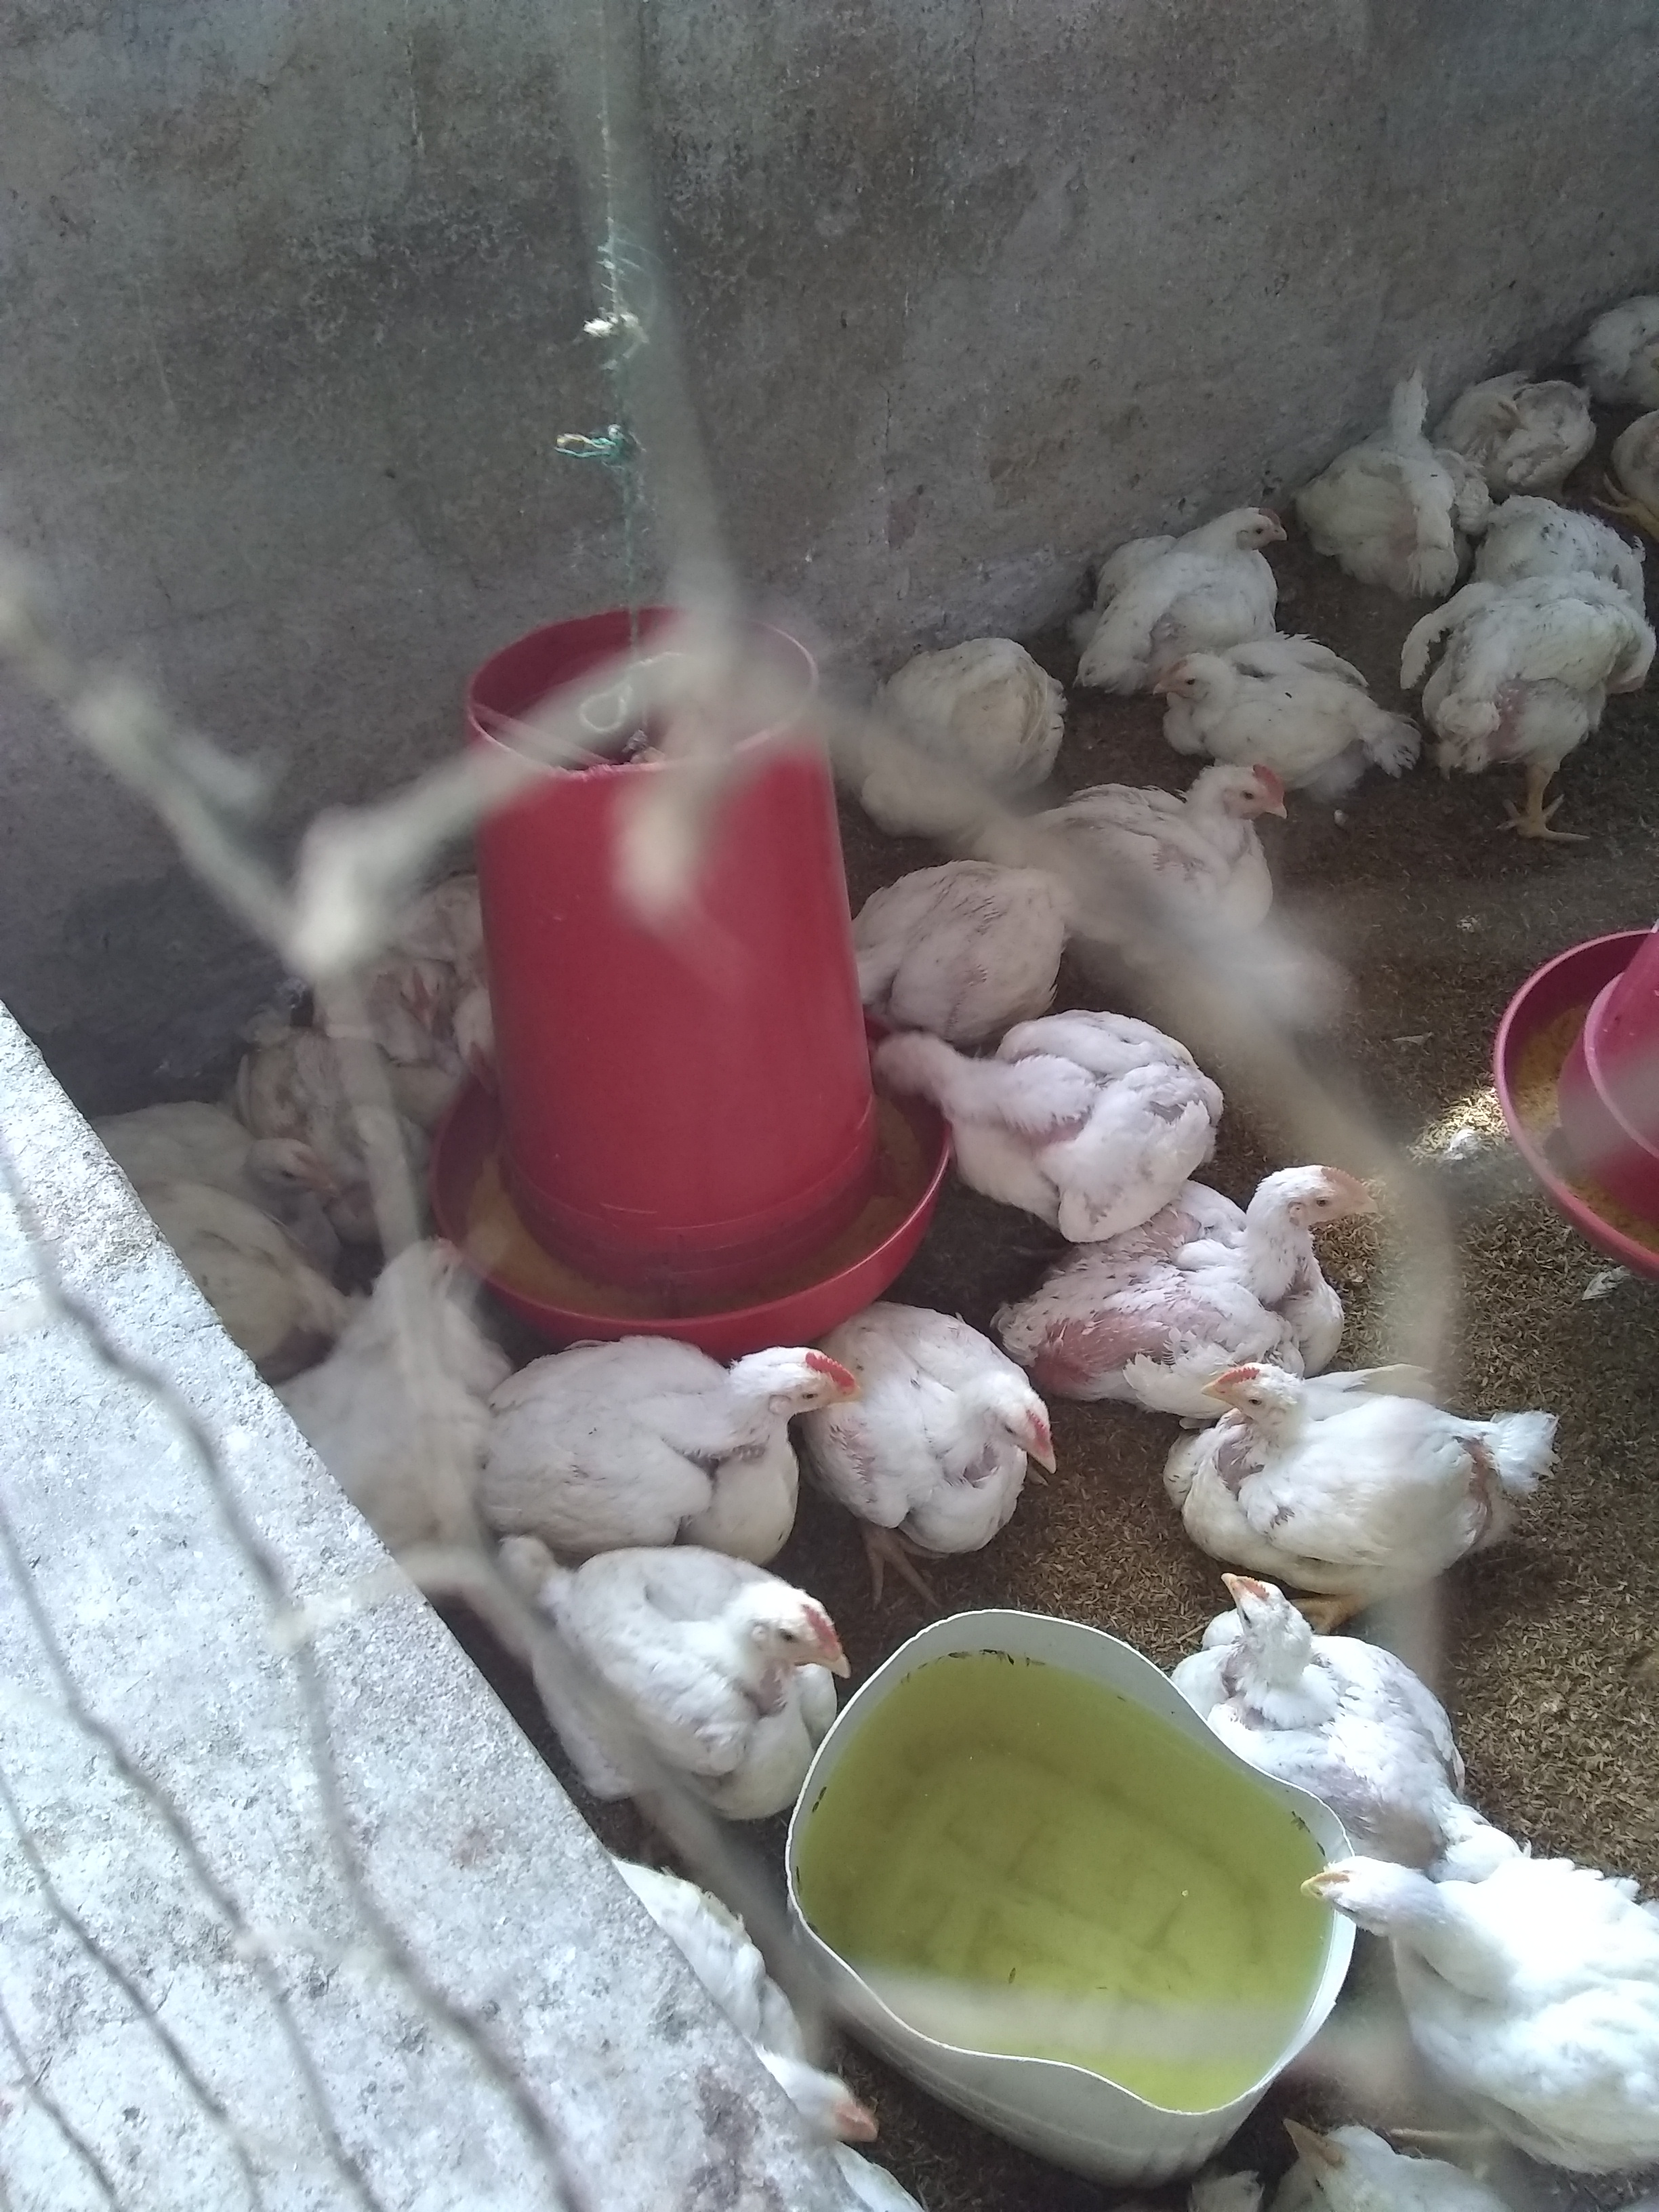Pollos: (1302, 1838, 1642, 2095), (552, 1327, 850, 1534), (558, 1550, 850, 1759), (1192, 1350, 1473, 1552), (873, 1014, 1140, 1217), (854, 1305, 1065, 1554), (1412, 580, 1659, 782), (1143, 1158, 1371, 1350), (1218, 1568, 1420, 1784), (866, 629, 1068, 840), (1077, 749, 1297, 916), (847, 859, 1061, 1019), (319, 1230, 469, 1454), (1338, 359, 1466, 557), (136, 1103, 342, 1217), (1161, 632, 1354, 752), (1134, 505, 1281, 657), (354, 930, 490, 1061)
